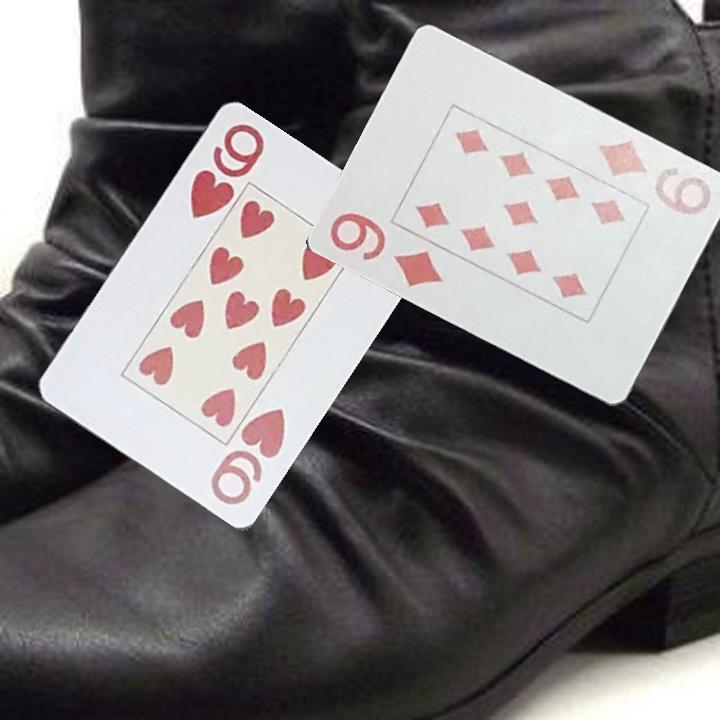9d: (325, 206, 447, 293), (594, 134, 716, 219)
9h: (206, 405, 289, 509), (186, 120, 268, 225)
